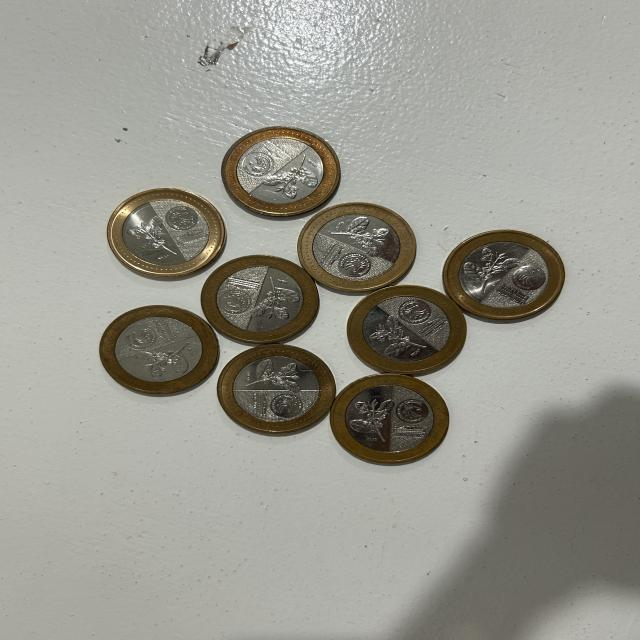20_New_Back: (331, 213, 404, 260), (458, 240, 516, 299), (243, 349, 314, 396)
